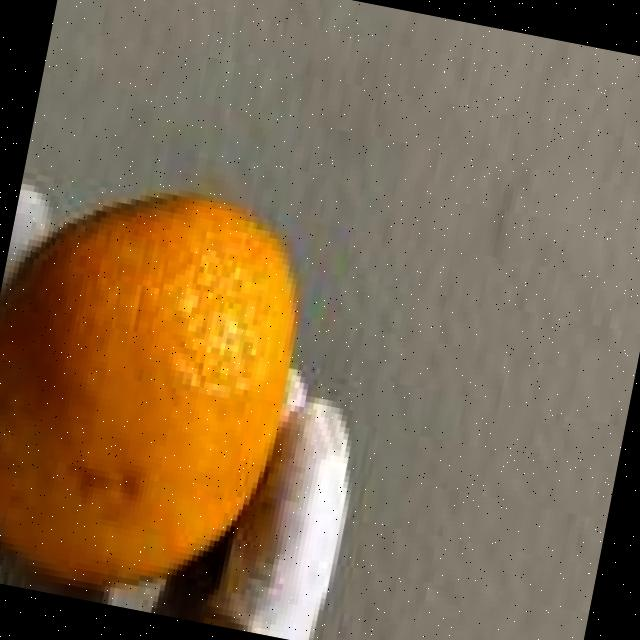Bad_Orange-0-1 day: (0, 189, 296, 594)
